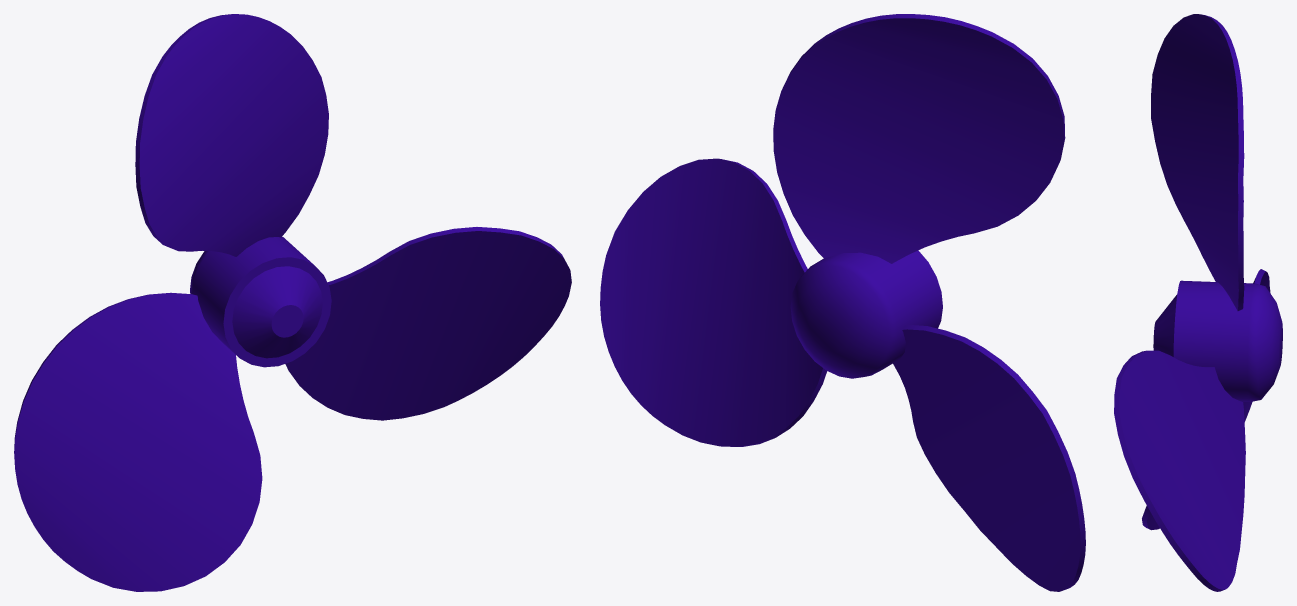
File: Fan_Blade.glb
The picture shows the model from 3 angles, left to right: view 1: azimuth 30°, elevation 25°; view 2: azimuth 150°, elevation 25°; view 3: azimuth 270°, elevation 25°; orthographic projection. The views are drawn at different scales.
Parts seen in each view (by area): view 1: Fan_Blade; view 2: Fan_Blade; view 3: Fan_Blade.
Boxes of the visible parts, box(x1,y1,x2,y2) form: Fan_Blade: box(14, 14, 571, 591); Fan_Blade: box(600, 14, 1085, 591); Fan_Blade: box(1114, 14, 1282, 591).
Bounding box in the file's own units: 0.9768 × 0.9917 × 0.2846.
